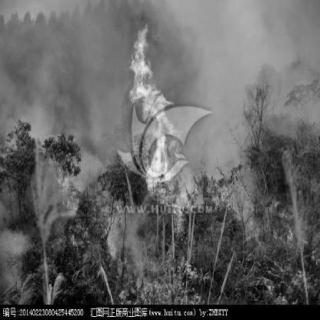Fire: (123, 24, 197, 242)
